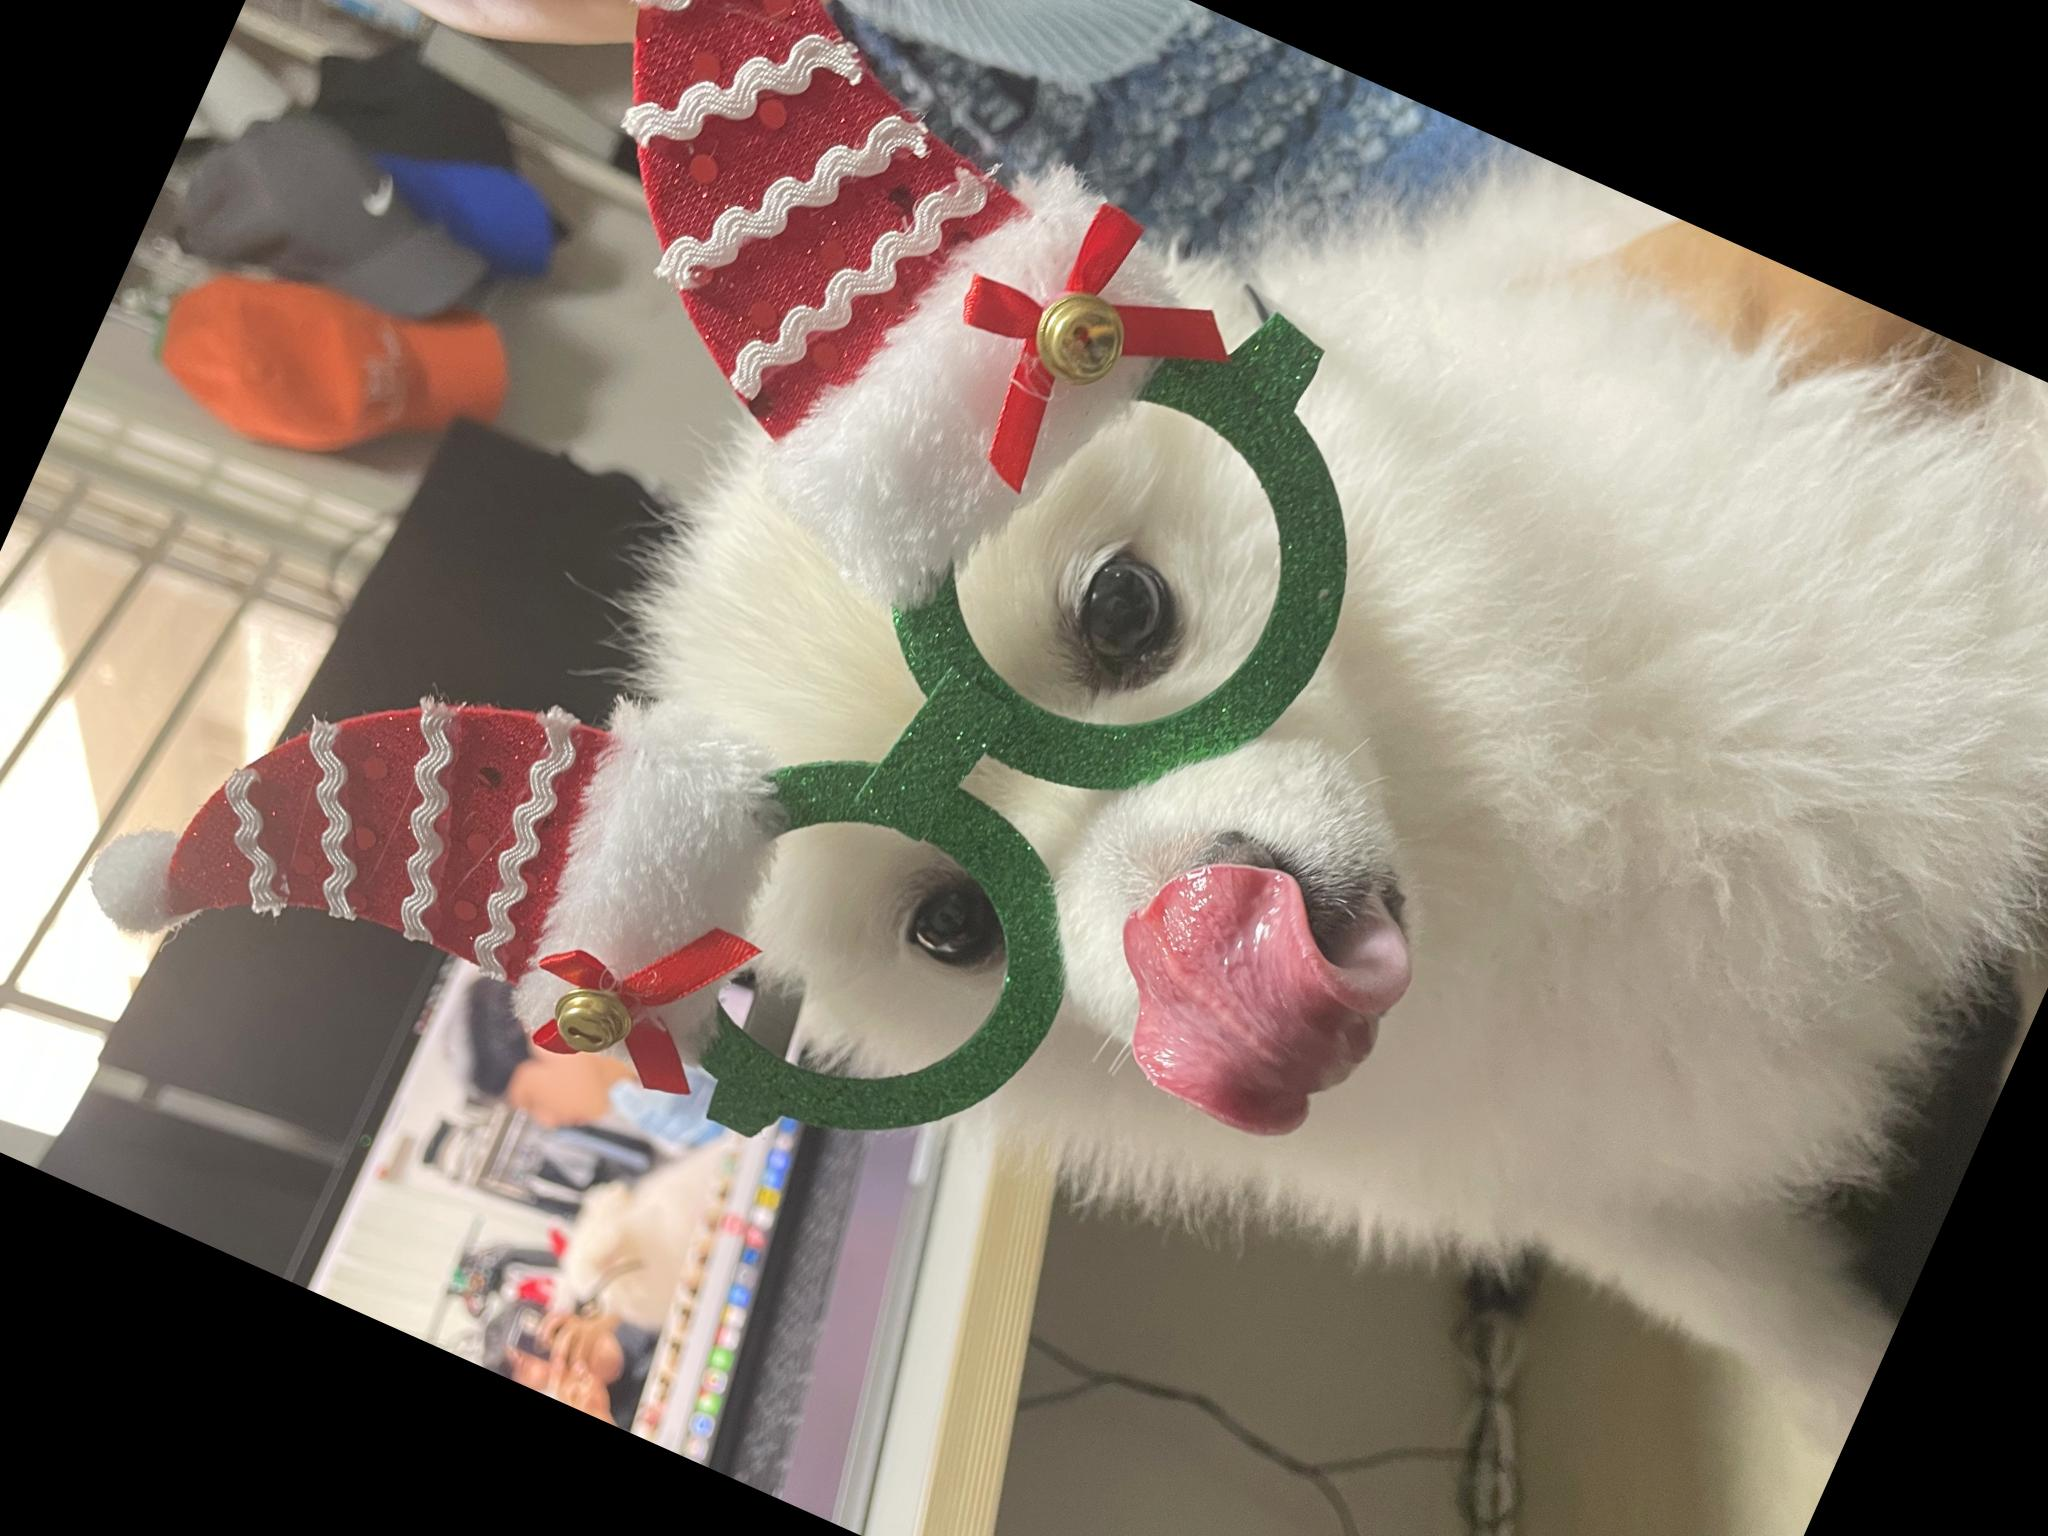dog: (123, 331, 1564, 1536)
